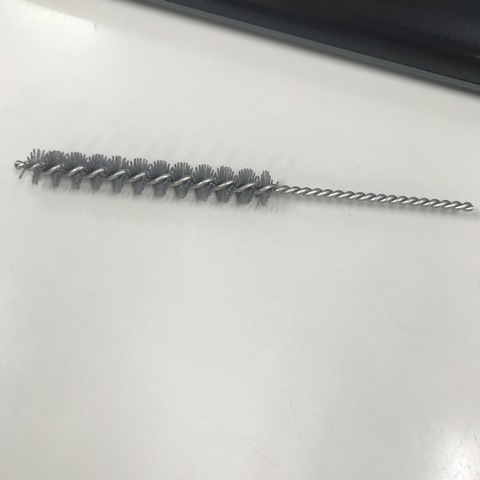Twist Brush-A: (12, 146, 478, 216)
